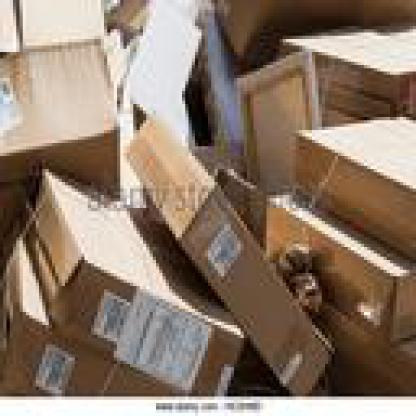CARDBOARD: (0, 0, 413, 393), (124, 104, 332, 390), (22, 159, 244, 390), (0, 211, 179, 390), (0, 0, 117, 244), (263, 188, 413, 341), (292, 107, 413, 257), (234, 42, 322, 198), (276, 23, 413, 120), (211, 0, 413, 62), (111, 0, 195, 146), (309, 296, 413, 390), (195, 3, 241, 133)
